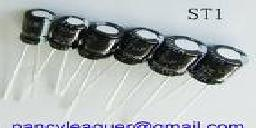Electrolytic-Capacitor: (59, 20, 118, 128)
